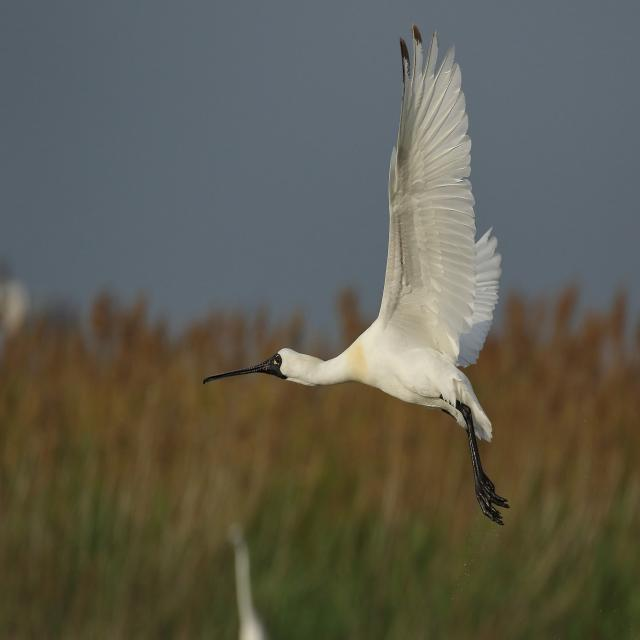Black-faced spoonbill: (205, 26, 508, 524)
